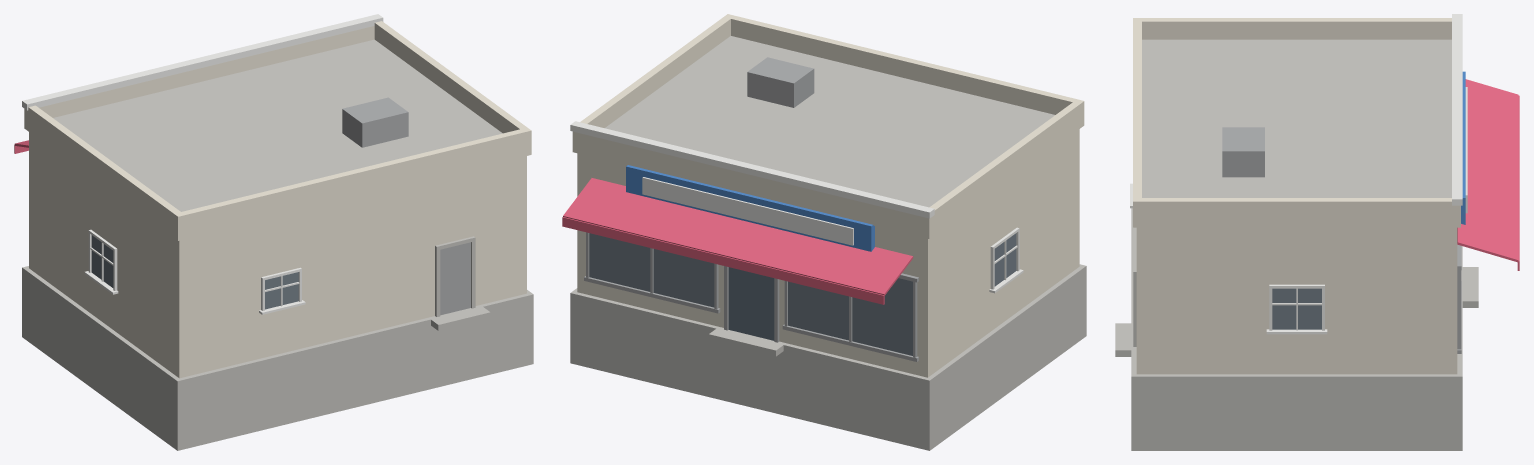
Rendered from shop.glb.
3 views of the same model, side by side, from view 1: azimuth 30°, elevation 25°; view 2: azimuth 150°, elevation 25°; view 3: azimuth 270°, elevation 25° (orthographic). The views are drawn at different scales.
Parts seen in each view (by area): view 1: shop; view 2: shop; view 3: shop.
Boxes of the visible parts, box(x1,y1,x2,y2) form: shop: box(14, 14, 533, 450); shop: box(562, 14, 1086, 450); shop: box(1115, 14, 1519, 450).
Bounding box in the file's own units: 12.38 × 7.95 × 11.35.
